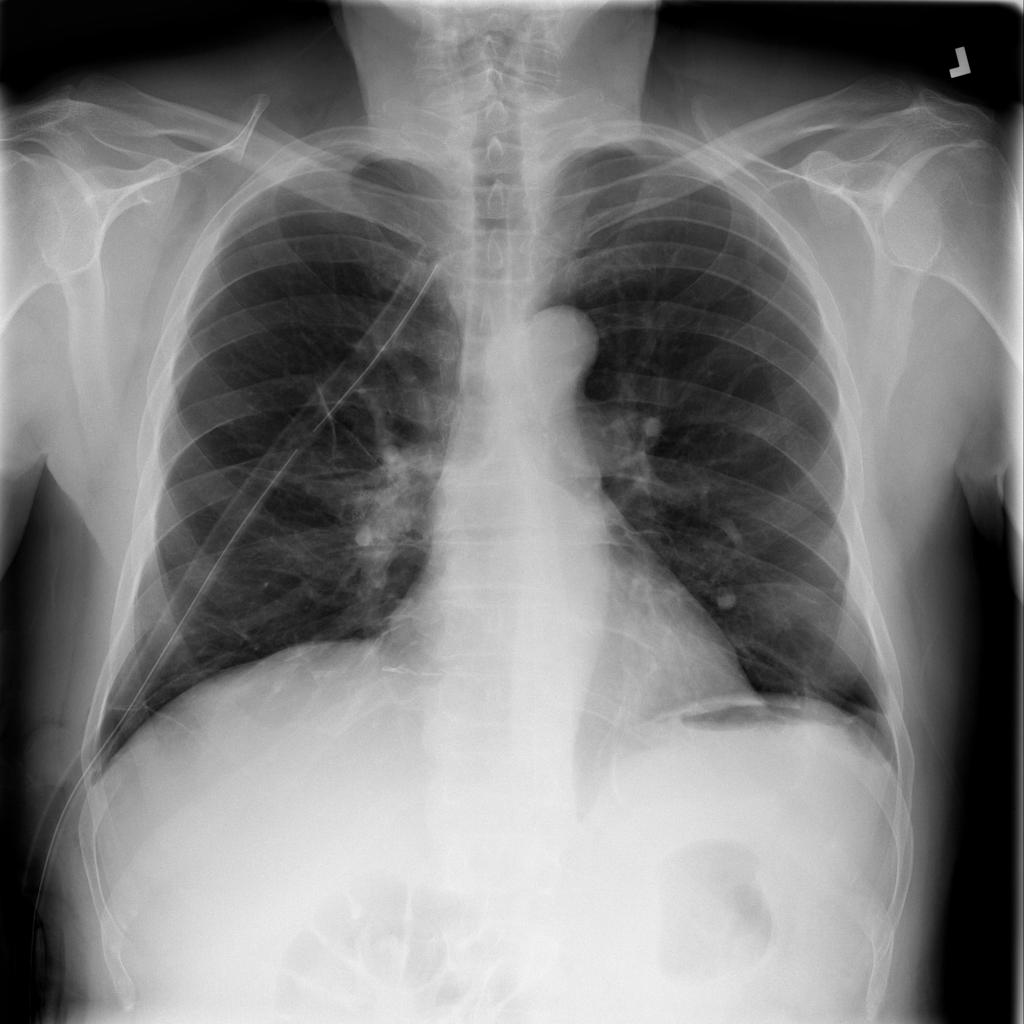nodule: (697, 576, 754, 622)
